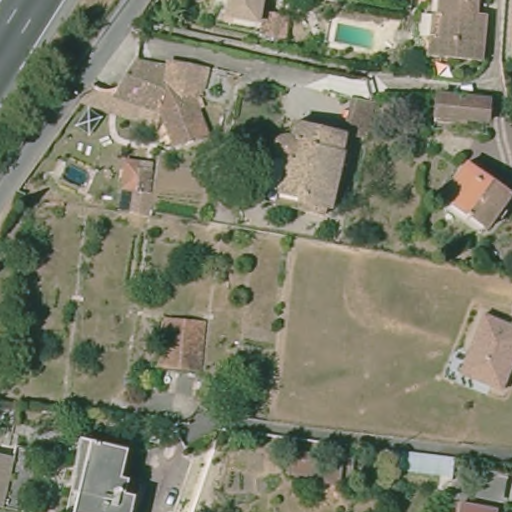pool: (323, 21, 388, 53)
